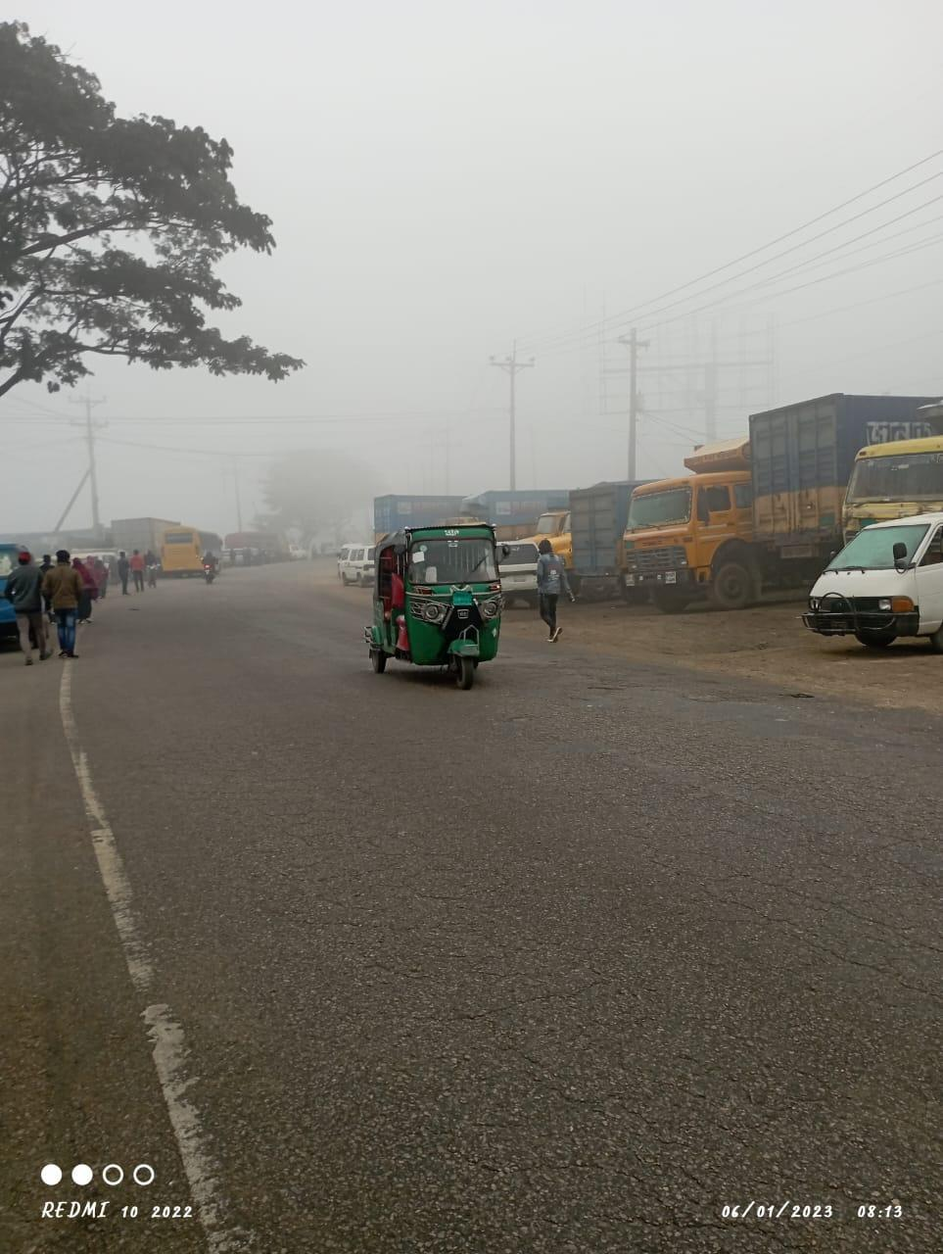Bike: (197, 550, 221, 587)
Bus: (153, 520, 233, 579)
Car: (800, 509, 943, 655)
Truck: (612, 434, 758, 612), (743, 377, 858, 565)
